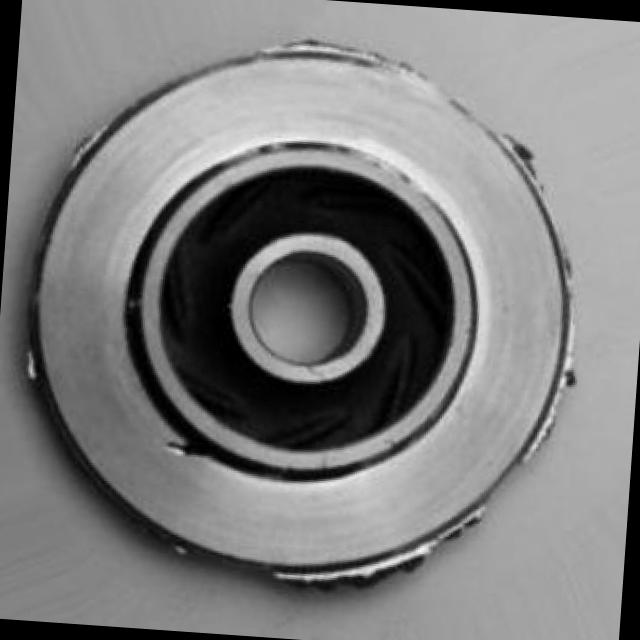Defect: (156, 418, 213, 484)
